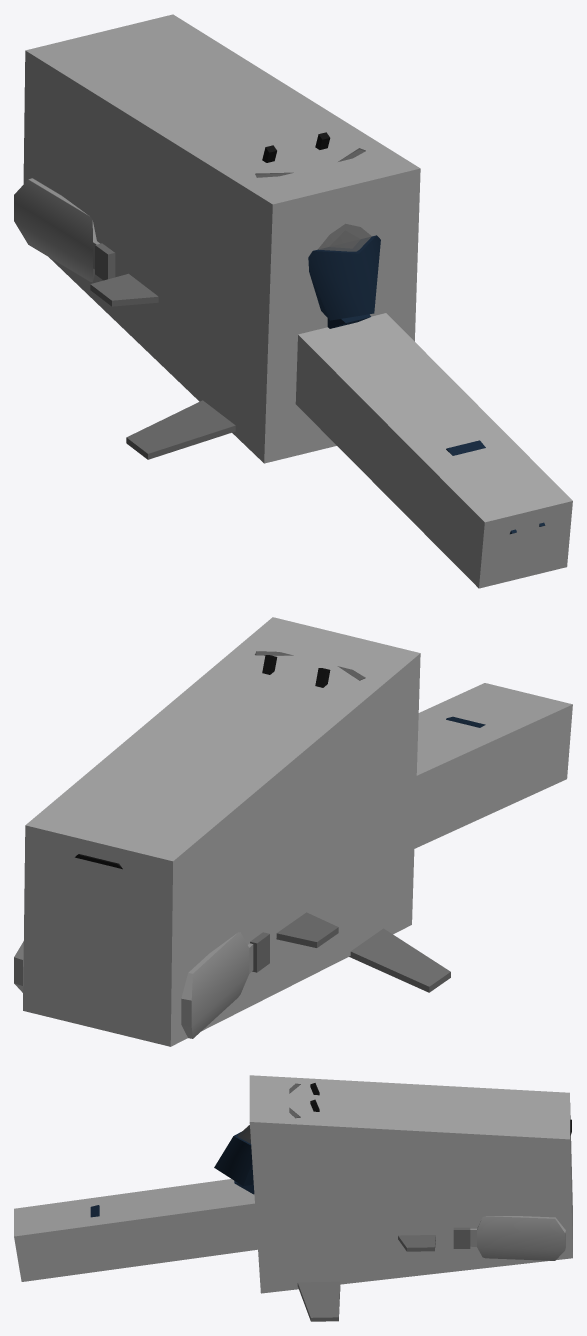
Rendered from Steer_Idle.fbx.
3 views of the same model, one above another, from view 1: azimuth 30°, elevation 25°; view 2: azimuth 150°, elevation 25°; view 3: azimuth 270°, elevation 25° (orthographic). The views are drawn at different scales.
Visible parts, largest first — view 1: CyberBike_Geo, Main_geo, Flap_R_geo, Wings_geo, Glass_geo; view 2: CyberBike_Geo, Wings_geo, Flap_R_geo, Engine_geo; view 3: CyberBike_Geo, Flap_L_geo, Wings_geo, Main_geo, Engine_geo.
Part boxes in pixels (x1,y1,x2,y2): CyberBike_Geo: (23,14,572,588); Main_geo: (308,235,545,534); Flap_R_geo: (14,178,99,282); Wings_geo: (90,273,235,459); Glass_geo: (255,148,371,251); CyberBike_Geo: (23,617,572,1046); Wings_geo: (276,912,450,992); Flap_R_geo: (181,932,253,1038); Engine_geo: (250,932,269,972); CyberBike_Geo: (14,1075,572,1293); Flap_L_geo: (470,1216,565,1260); Wings_geo: (297,1235,435,1321); Main_geo: (90,1130,254,1217); Engine_geo: (453,1227,470,1248).
Size of the model in its own units: 6.72 by 5.95 by 16.6.
